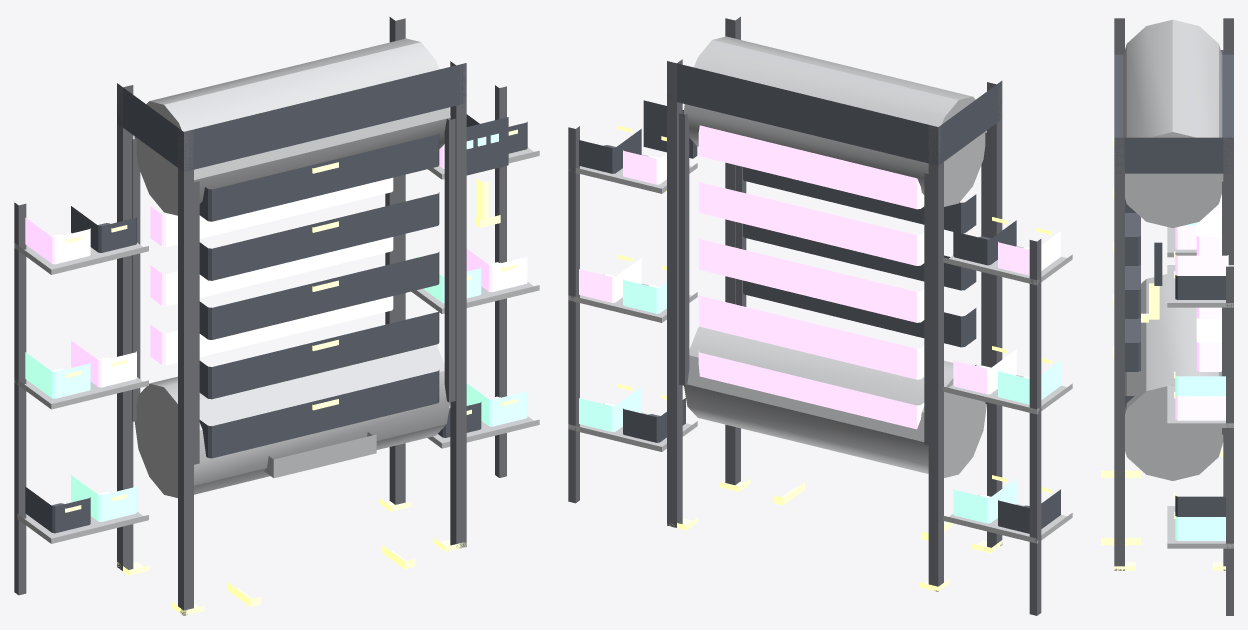
The model's file is iter_01.glb.
The picture shows the model from 3 angles, left to right: view 1: azimuth 30°, elevation 25°; view 2: azimuth 150°, elevation 25°; view 3: azimuth 270°, elevation 25°; orthographic projection. The views are drawn at different scales.
Visible parts, largest first — view 1: Carrier_BinsA, Sprockets, Posts, Header_Motor, Carrier_BinsB, Side_Posts, Chain_Guides, Side_Bins_Rails, Bins_violet_L, Bins_slate_L, Bins_green_L, Bins_green_R (+7 smaller); view 2: Sprockets, Carrier_BinsB, Posts, Header_Motor, Carrier_BinsA, Side_Posts, Side_Bins_Rails, Chain_Guides, Bins_green_L, Bins_slate_L, Bins_violet_L, Bins_slate_R (+4 smaller); view 3: Sprockets, Posts, Header_Motor, Side_Bins_Rails, Carrier_BinsB, Side_Posts, Carrier_BinsA, Bins_violet_R, Bins_green_R, Bins_slate_R, Bins_violet_L, Guide_Rails (+4 smaller).
Part boxes in pixels (x1,y1,x2,y2): Carrier_BinsA: [199, 133, 439, 458]; Sprockets: [134, 38, 450, 497]; Posts: [117, 17, 466, 615]; Header_Motor: [117, 63, 466, 171]; Carrier_BinsB: [150, 177, 393, 365]; Side_Posts: [14, 85, 506, 595]; Chain_Guides: [132, 118, 455, 464]; Side_Bins_Rails: [14, 147, 539, 543]; Bins_violet_L: [25, 217, 136, 387]; Bins_slate_L: [25, 206, 136, 533]; Bins_green_L: [25, 352, 136, 521]; Bins_green_R: [415, 257, 527, 426]; Sprockets: [683, 36, 986, 477]; Carrier_BinsB: [698, 125, 924, 429]; Posts: [667, 16, 1002, 591]; Header_Motor: [667, 61, 1002, 165]; Carrier_BinsA: [743, 167, 976, 365]; Side_Posts: [568, 126, 1041, 615]; Side_Bins_Rails: [568, 145, 1072, 543]; Chain_Guides: [679, 113, 986, 445]; Bins_green_L: [953, 360, 1060, 523]; Bins_slate_L: [953, 220, 1060, 533]; Bins_violet_L: [953, 231, 1060, 394]; Bins_slate_R: [579, 129, 685, 442]; Sprockets: [1123, 19, 1223, 480]; Posts: [1114, 18, 1233, 570]; Header_Motor: [1114, 50, 1233, 173]; Side_Bins_Rails: [1167, 227, 1233, 548]; Carrier_BinsB: [1196, 194, 1221, 371]; Side_Posts: [1226, 266, 1233, 615]; Carrier_BinsA: [1125, 199, 1140, 408]; Bins_violet_R: [1175, 255, 1228, 420]; Bins_green_R: [1175, 375, 1225, 540]; Bins_slate_R: [1175, 275, 1225, 516]; Bins_violet_L: [1175, 225, 1196, 249]; Guide_Rails: [1101, 470, 1140, 545].
Bounding box in the file's own units: 1.9 × 1.8 × 0.5.
